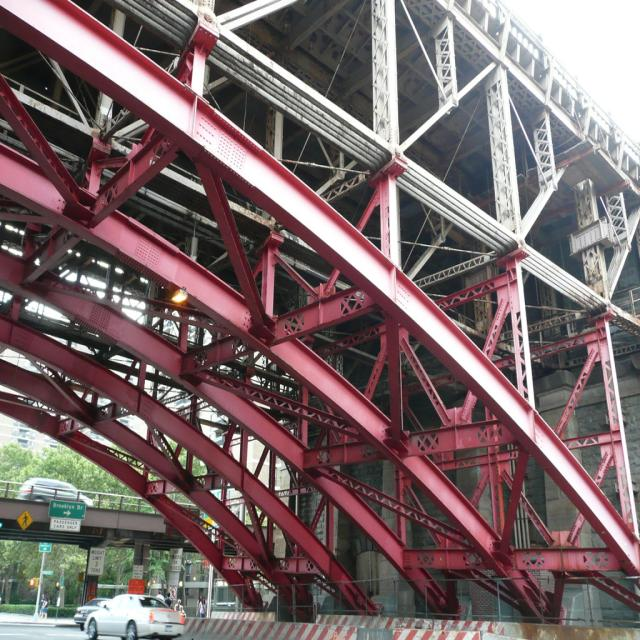car: (83, 592, 183, 638)
